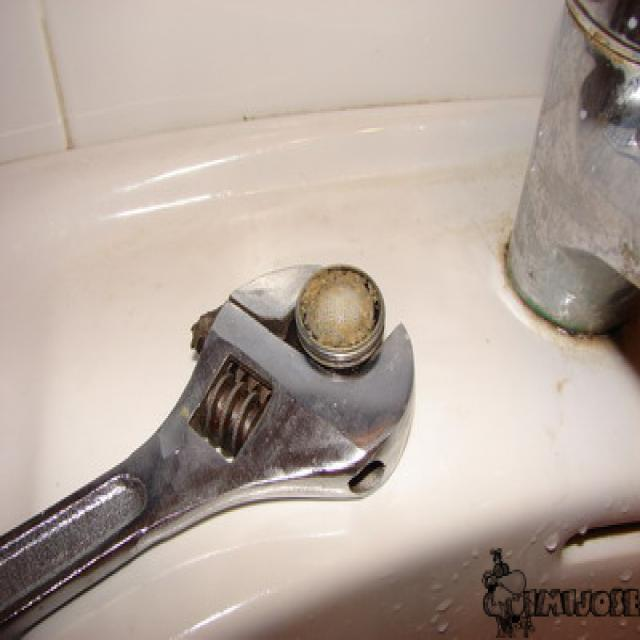wrench: (0, 246, 426, 640)
